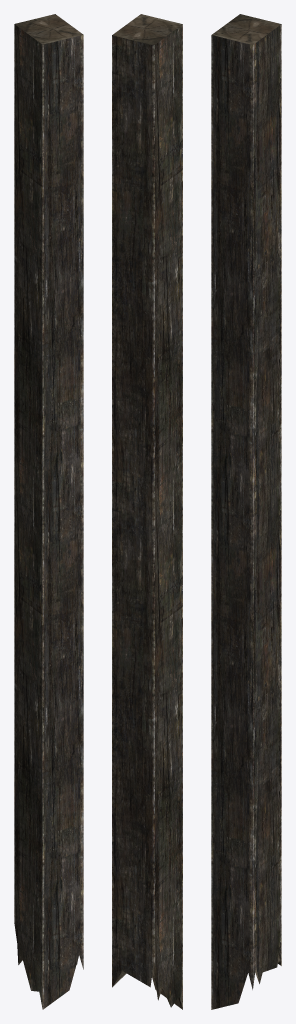
Rendered from Wood_el4_LOD1.fbx.
3 renders of one model, left to right at view 1: azimuth 30°, elevation 25°; view 2: azimuth 150°, elevation 25°; view 3: azimuth 330°, elevation 25°, orthographic. The views are drawn at different scales.
Parts seen in each view (by area): view 1: polySurface38; view 2: polySurface38; view 3: polySurface38.
Part boxes in pixels (x1,y1,x2,y2): polySurface38: (14, 14, 83, 1009); polySurface38: (112, 14, 182, 1009); polySurface38: (211, 14, 281, 1009).
Size of the model in its own units: 0.1945 by 4.37 by 0.2334.
